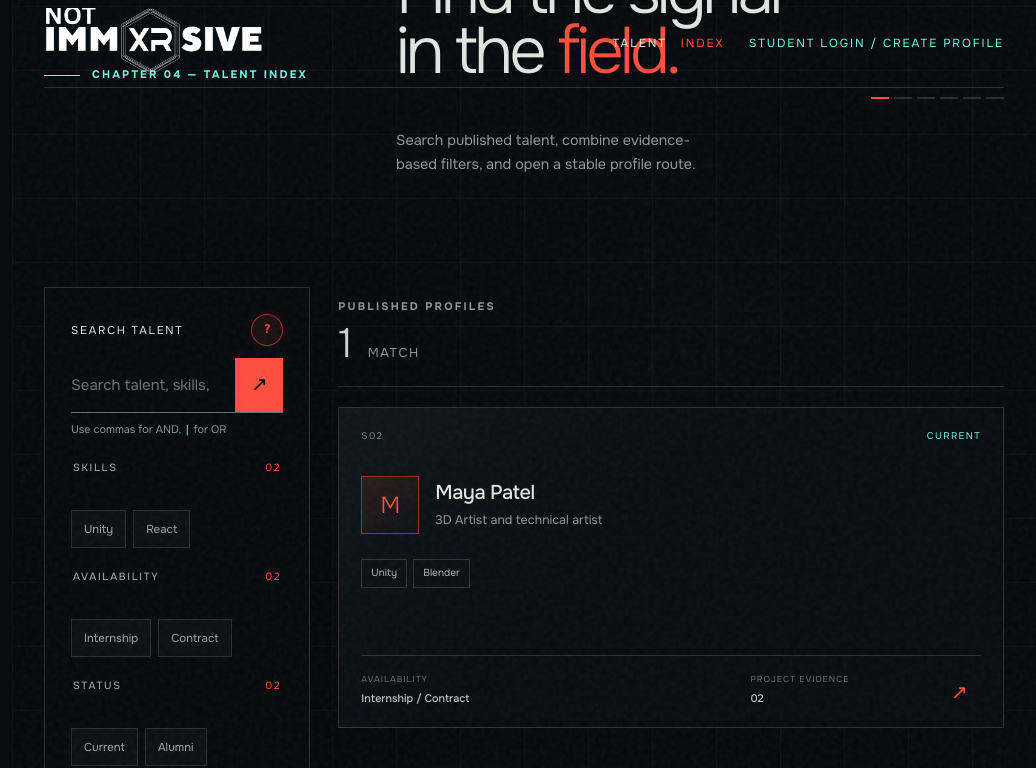
talent directory › submits search to the API and serializes it into the URL
(page scrolled)
Expected: the heading "Maya Patel" is shown, [435, 480, 535, 505]
In the search field labelled "Search talent": {"x": 153, "y": 385} [71, 358, 235, 412], type "Maya"
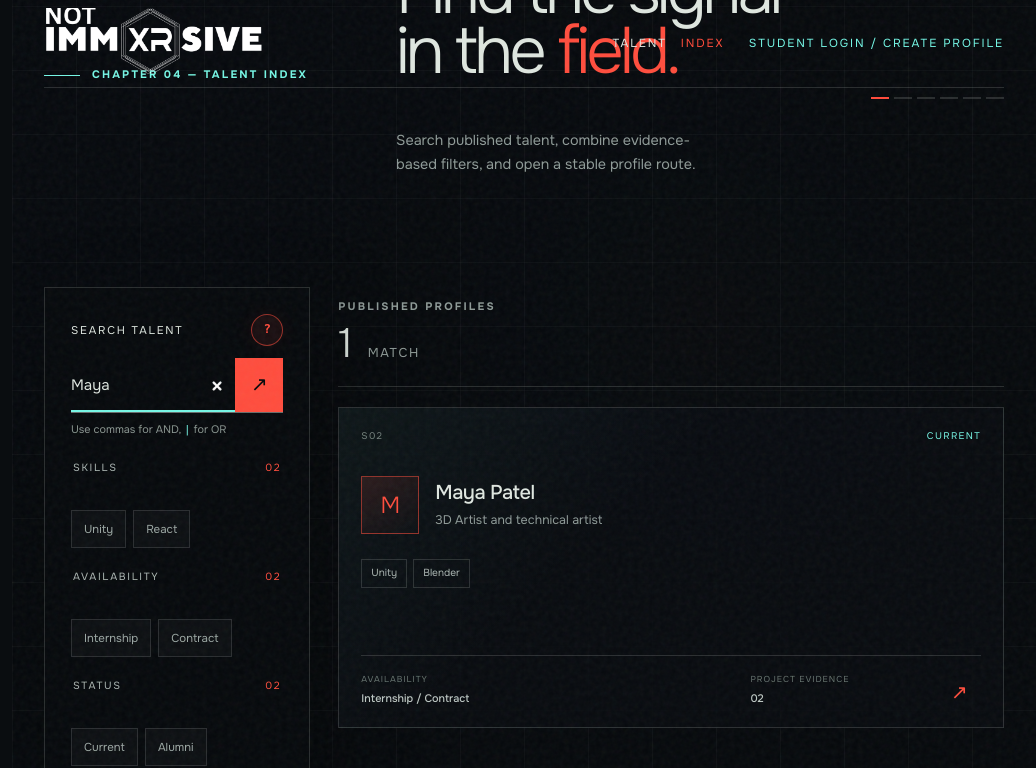
Click the button named "submit talent search": {"x": 259, "y": 385} [235, 358, 283, 412]
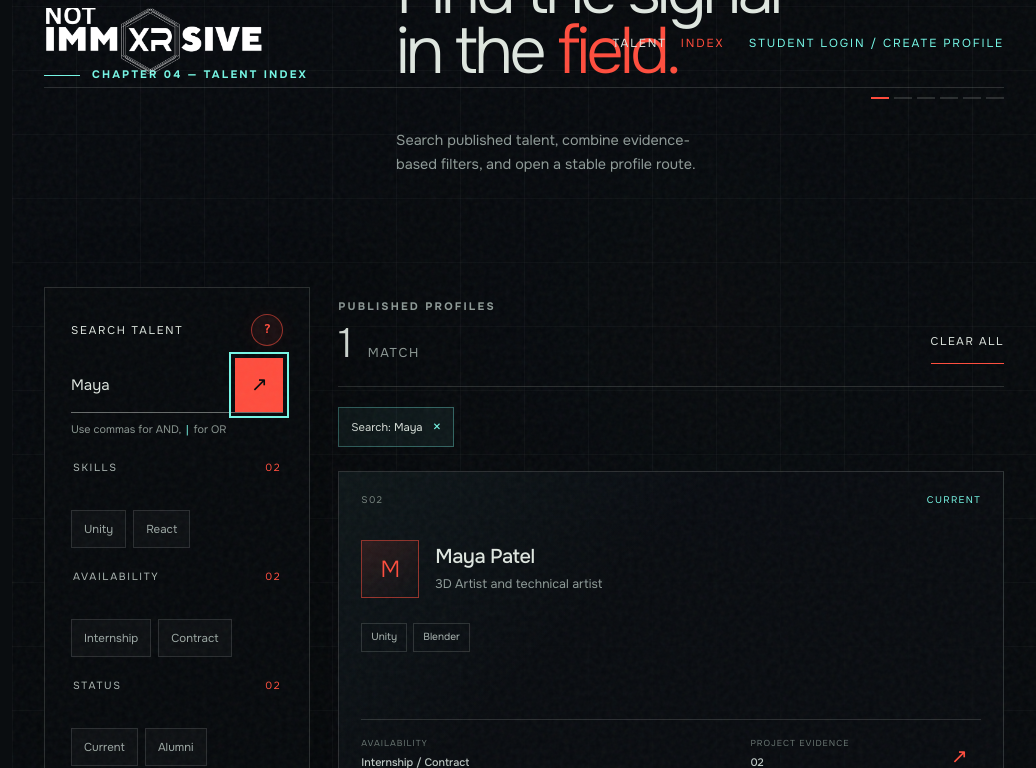
Now the button with aria-label "remove search: maya filter" is shown, box [338, 407, 454, 447]
